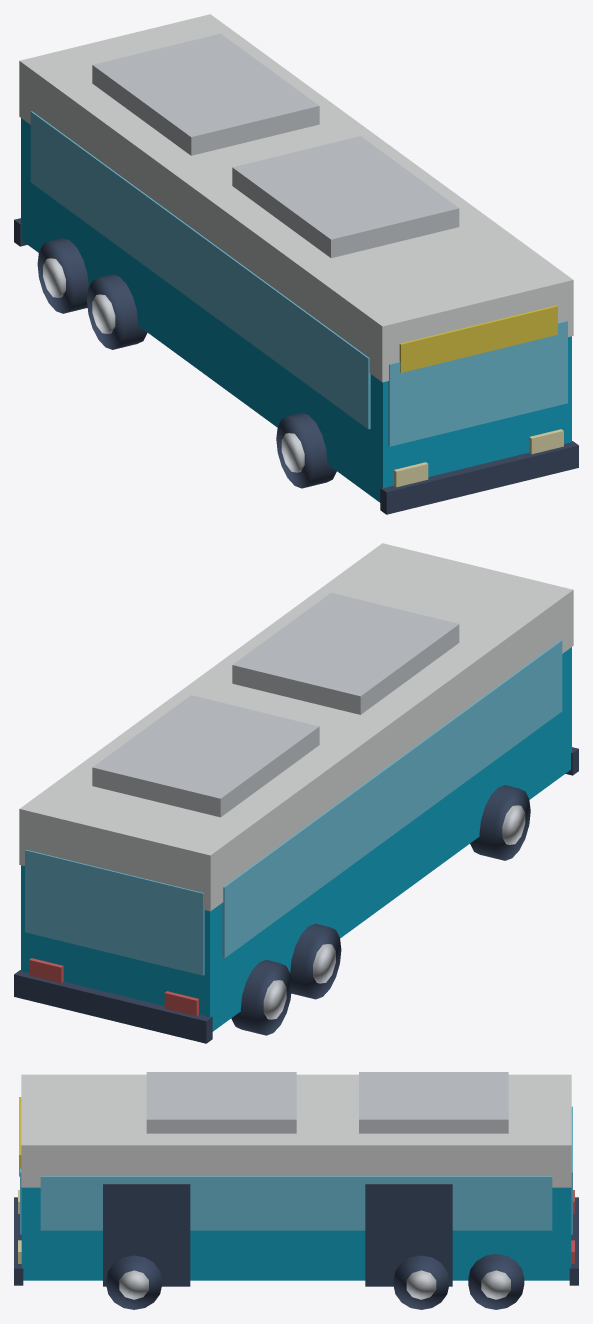
The model's file is commuter-bus.glb.
3 views of the same model, one above another, from view 1: azimuth 30°, elevation 25°; view 2: azimuth 150°, elevation 25°; view 3: azimuth 270°, elevation 25° (orthographic). The views are drawn at different scales.
Parts seen in each view (by area): view 1: Root; view 2: Root; view 3: Root.
Part boxes in pixels (x1,y1,x2,y2): Root: [14, 14, 578, 514]; Root: [14, 543, 578, 1043]; Root: [14, 1072, 578, 1309].
Bounding box in the file's own units: 3.14 × 3.08 × 9.05.
